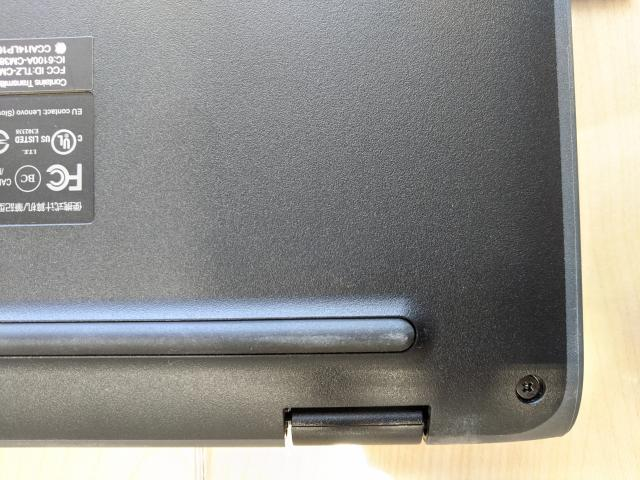CRS: (516, 372, 540, 400)
